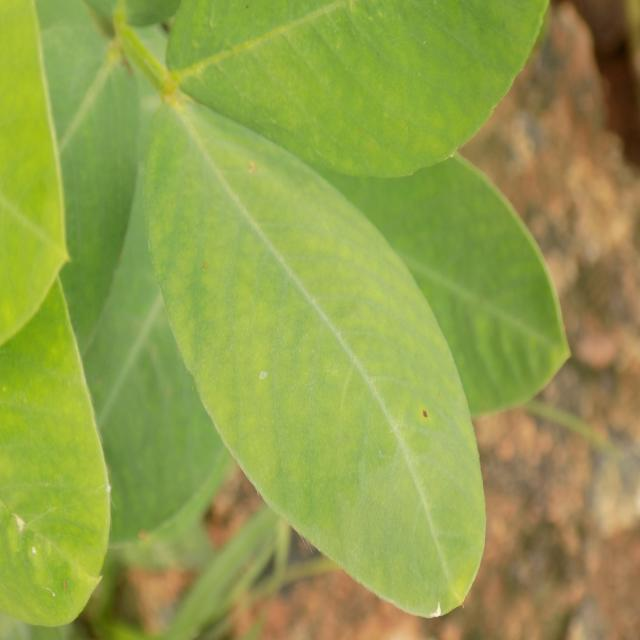Ground nut_healthy: (146, 95, 486, 614), (264, 132, 566, 416)
